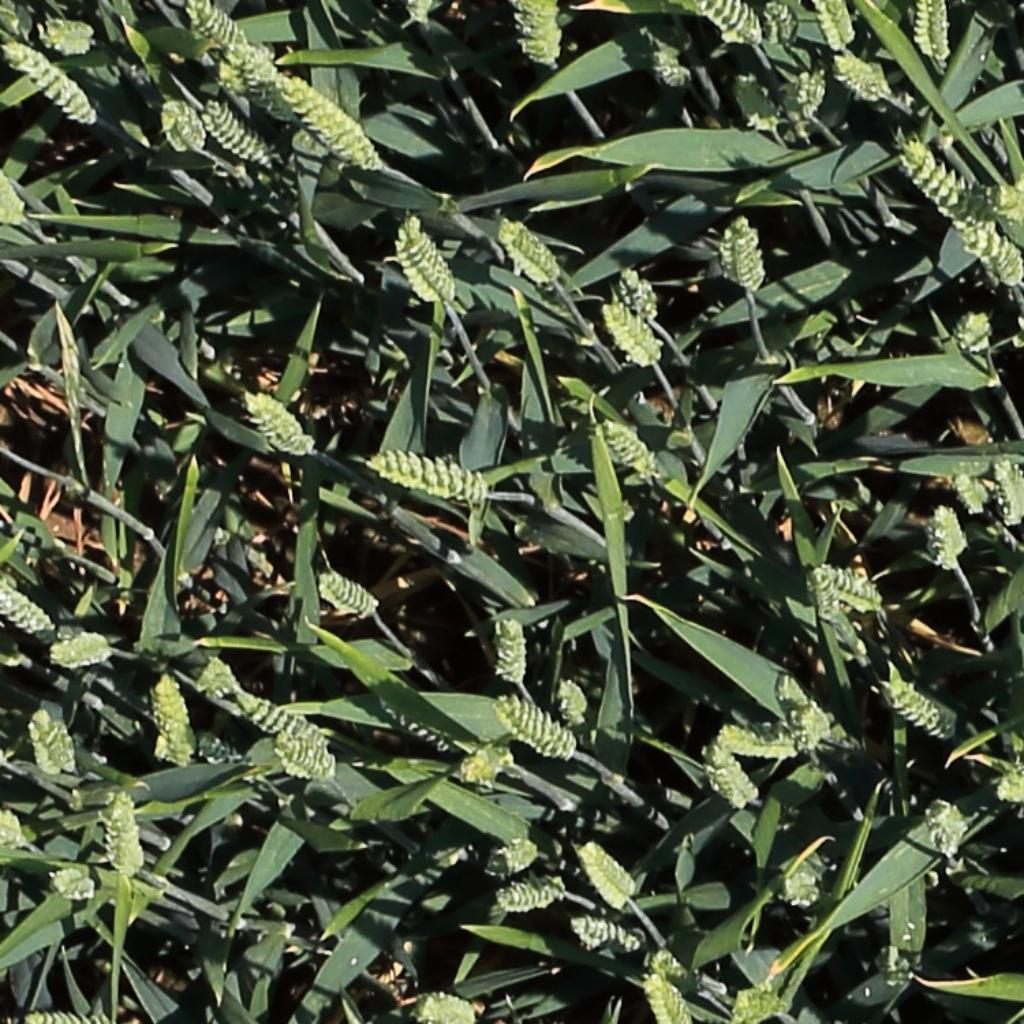0-0: (278, 75, 382, 169), (363, 441, 497, 506), (1, 36, 98, 124), (896, 140, 982, 226), (777, 70, 834, 171), (226, 43, 299, 120), (236, 692, 329, 752), (959, 215, 1024, 300), (400, 214, 456, 308), (575, 833, 643, 910), (585, 414, 662, 481), (495, 699, 577, 760), (202, 98, 274, 166), (27, 705, 87, 786), (50, 617, 124, 680), (600, 296, 664, 368), (241, 390, 312, 454), (884, 679, 954, 742), (101, 782, 143, 887), (454, 729, 523, 792), (498, 218, 562, 285), (379, 701, 456, 756), (918, 795, 965, 877), (704, 745, 759, 813), (681, 0, 767, 43), (508, 0, 561, 69), (154, 673, 192, 768), (719, 210, 764, 290), (318, 573, 385, 625), (496, 868, 575, 912), (719, 720, 812, 757), (0, 570, 51, 636), (777, 849, 832, 910), (832, 53, 897, 104), (4, 999, 129, 1024), (185, 1, 247, 51), (724, 75, 772, 139), (928, 499, 971, 569), (413, 983, 485, 1024), (159, 92, 208, 152), (619, 260, 662, 327), (909, 0, 950, 70), (492, 611, 527, 691), (818, 561, 886, 602), (808, 565, 849, 630), (570, 917, 647, 951), (34, 11, 101, 50), (991, 453, 1024, 532), (274, 740, 335, 782), (728, 984, 789, 1024), (950, 462, 995, 514), (555, 673, 592, 734), (963, 185, 1024, 222), (643, 977, 691, 1024), (631, 947, 696, 981), (816, 0, 854, 57), (0, 146, 27, 226), (992, 753, 1024, 820), (41, 860, 95, 899), (198, 650, 242, 694), (653, 43, 696, 88), (954, 305, 993, 354), (767, 0, 795, 51), (0, 808, 29, 853)
